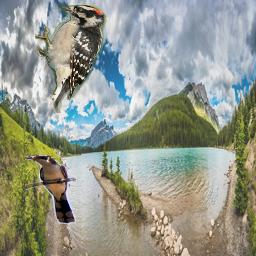Cuckoo: (25, 155, 76, 224)
Woodpecker: (35, 5, 107, 113)
